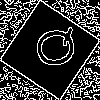Q: (25, 25, 80, 72)
